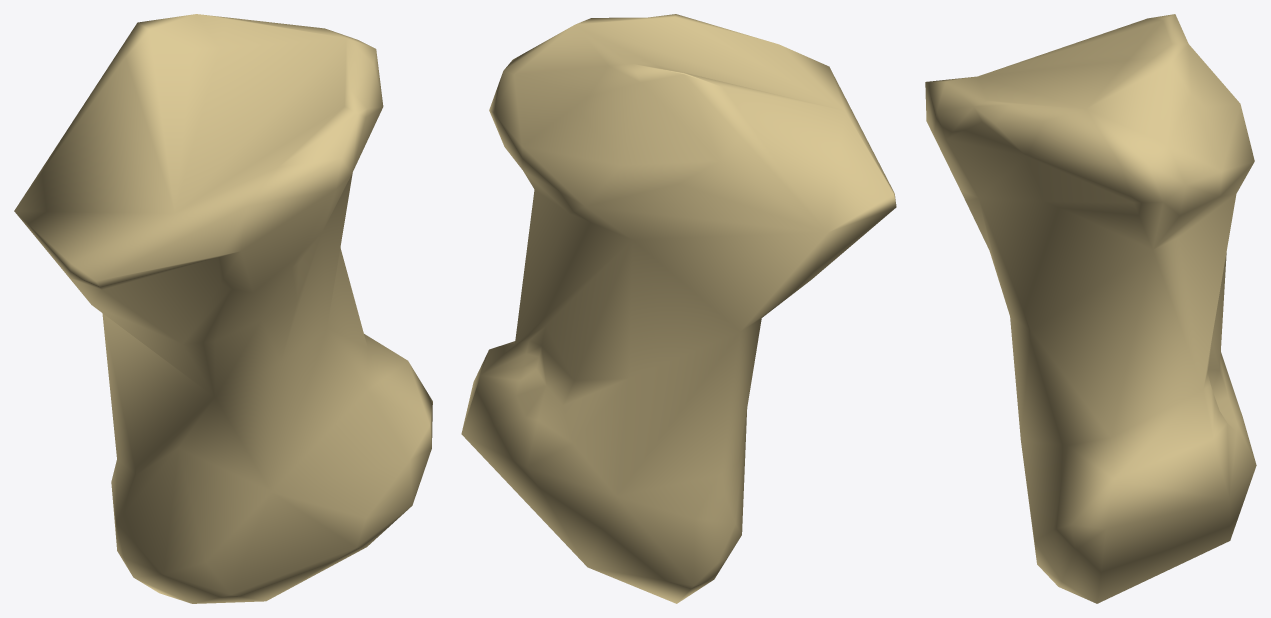
3 renders of one model, left to right at view 1: azimuth 30°, elevation 25°; view 2: azimuth 150°, elevation 25°; view 3: azimuth 270°, elevation 25°, orthographic. The views are drawn at different scales.
Parts seen in each view (by area): view 1: 左侧第二趾远节趾骨; view 2: 左侧第二趾远节趾骨; view 3: 左侧第二趾远节趾骨.
Boxes of the visible parts, x1,y1,x2,y2 form: 左侧第二趾远节趾骨: (14, 14, 432, 603); 左侧第二趾远节趾骨: (461, 14, 896, 603); 左侧第二趾远节趾骨: (925, 14, 1256, 603).
Size of the model in its own units: 0.015 by 0.0201 by 0.0112.
